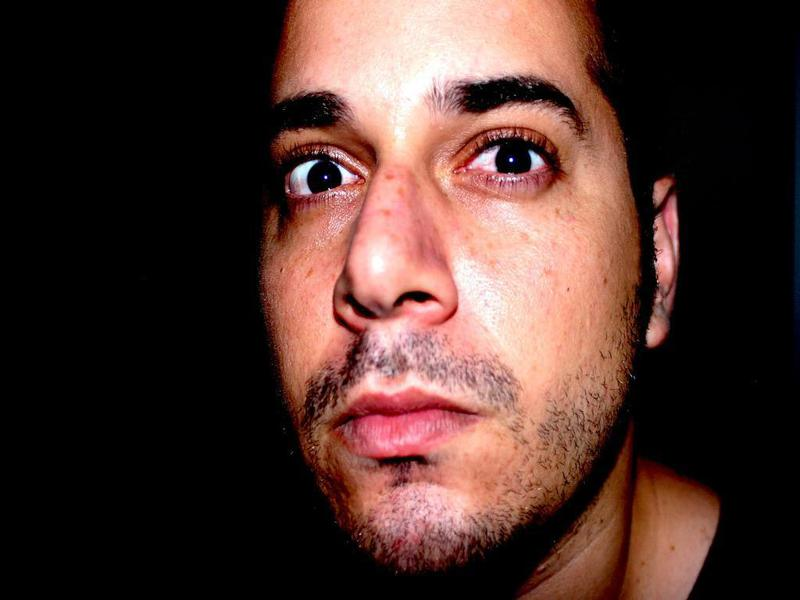person: (252, 1, 726, 600)
